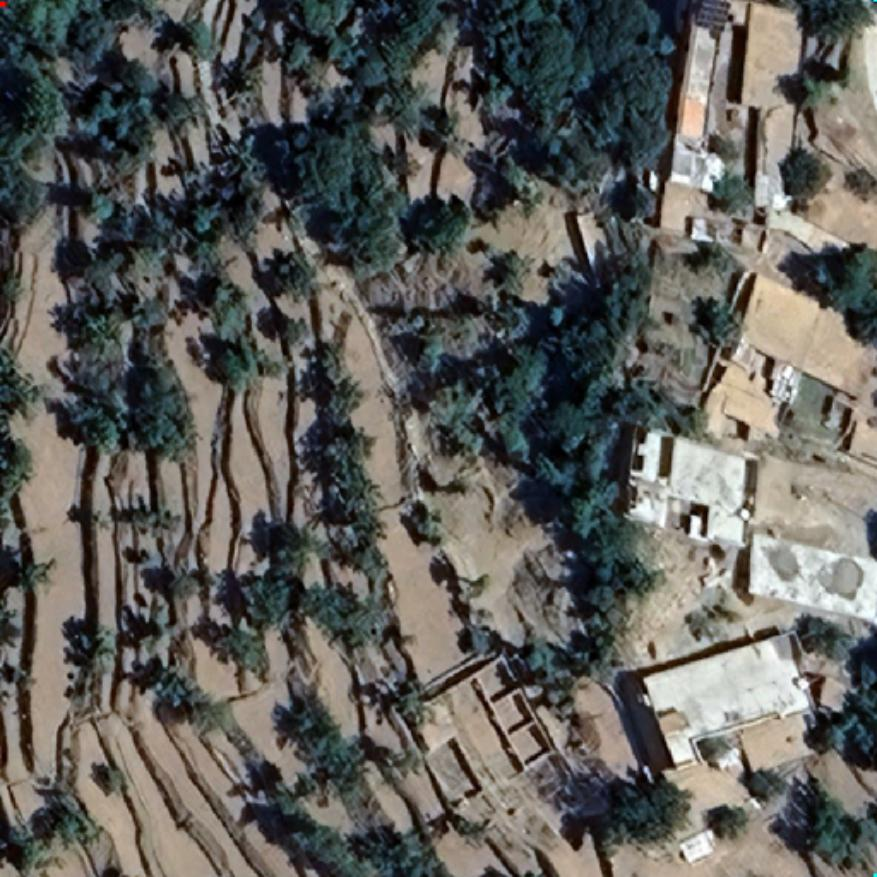Solarpanel: (695, 1, 733, 31)
